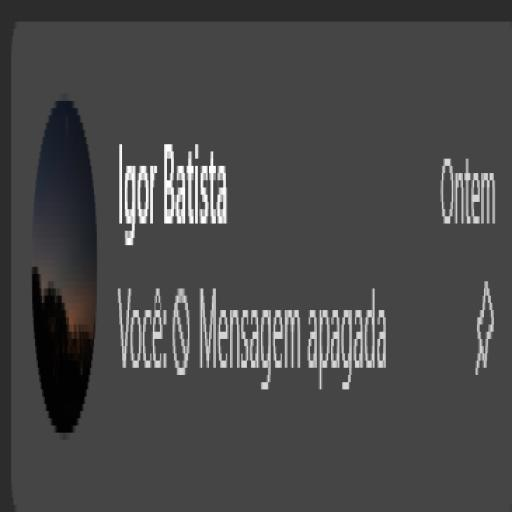chat: (13, 29, 511, 505)
